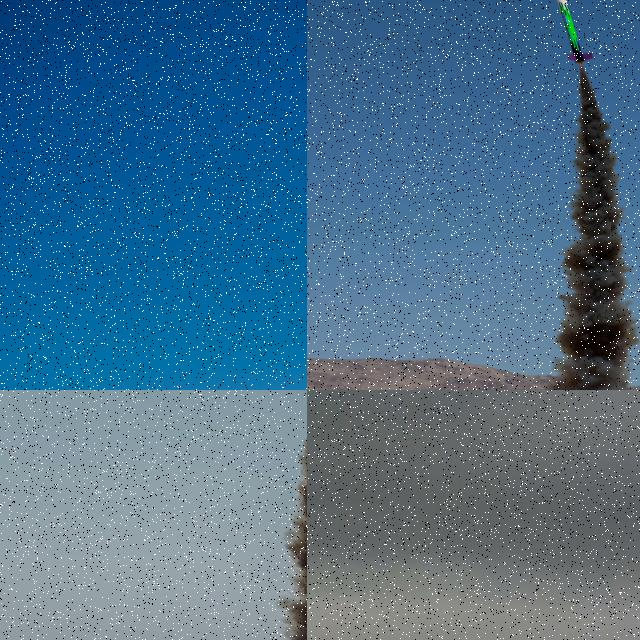Rocket: (553, 0, 593, 65)
